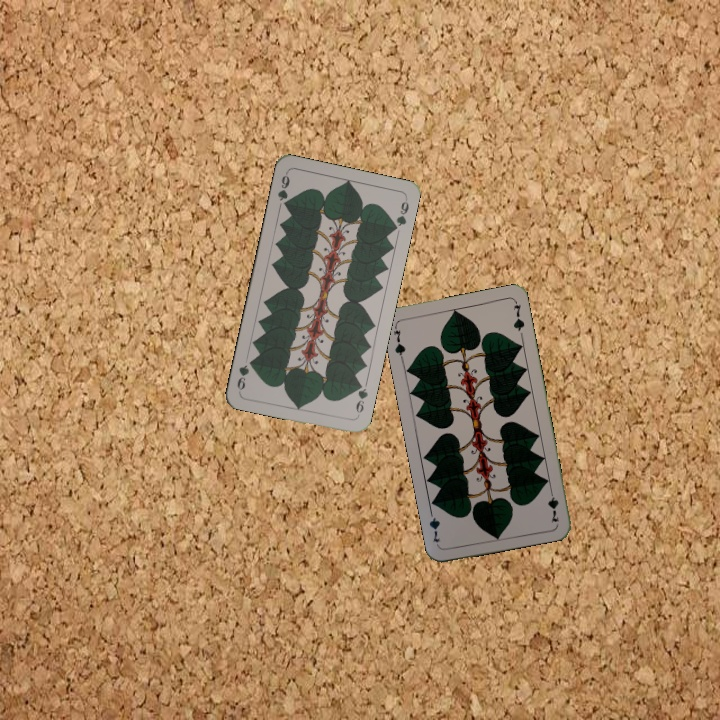G7: (389, 322, 408, 362), (544, 484, 561, 525)
G9: (274, 169, 292, 210), (352, 378, 370, 415)
